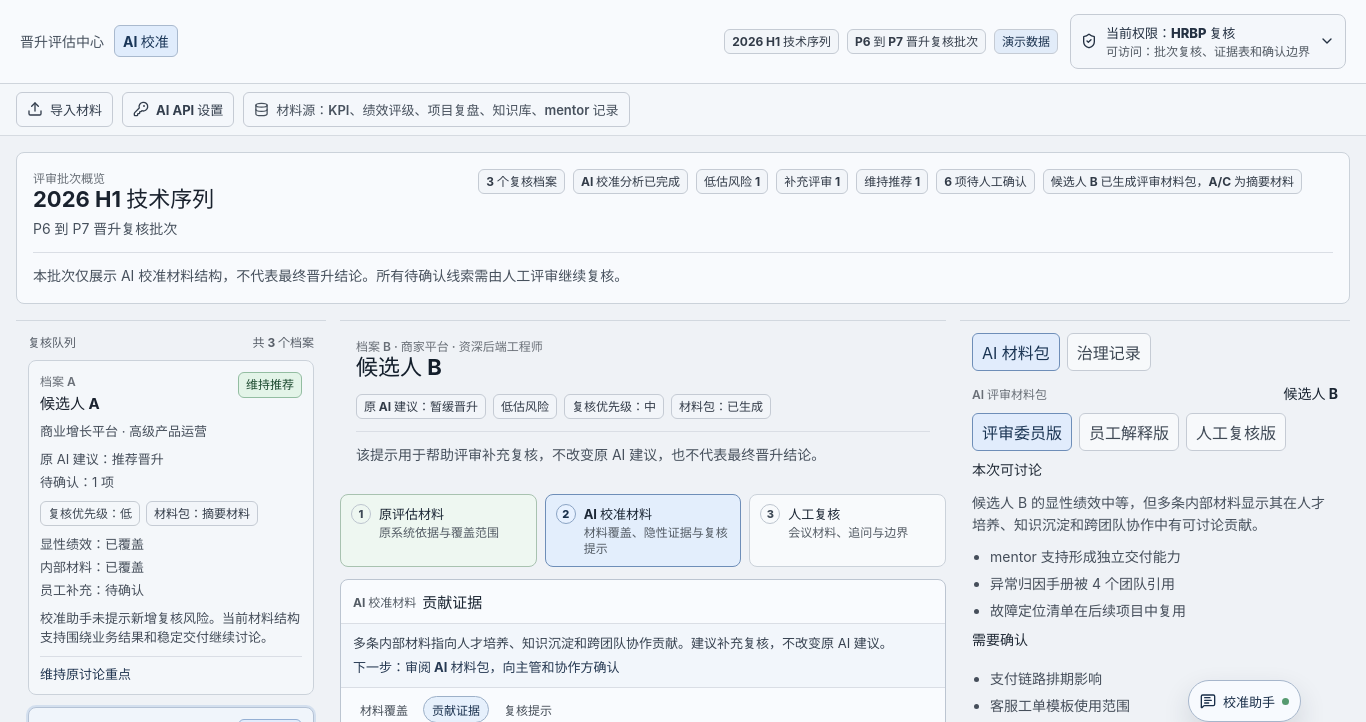
Test: promotion assessment center AI calibration module › switches to the committee briefing without exposing employee input or governance details
Click the button with aria-label "切换权限上下文". click: [1208, 41]
box: [1070,14,1346,69]
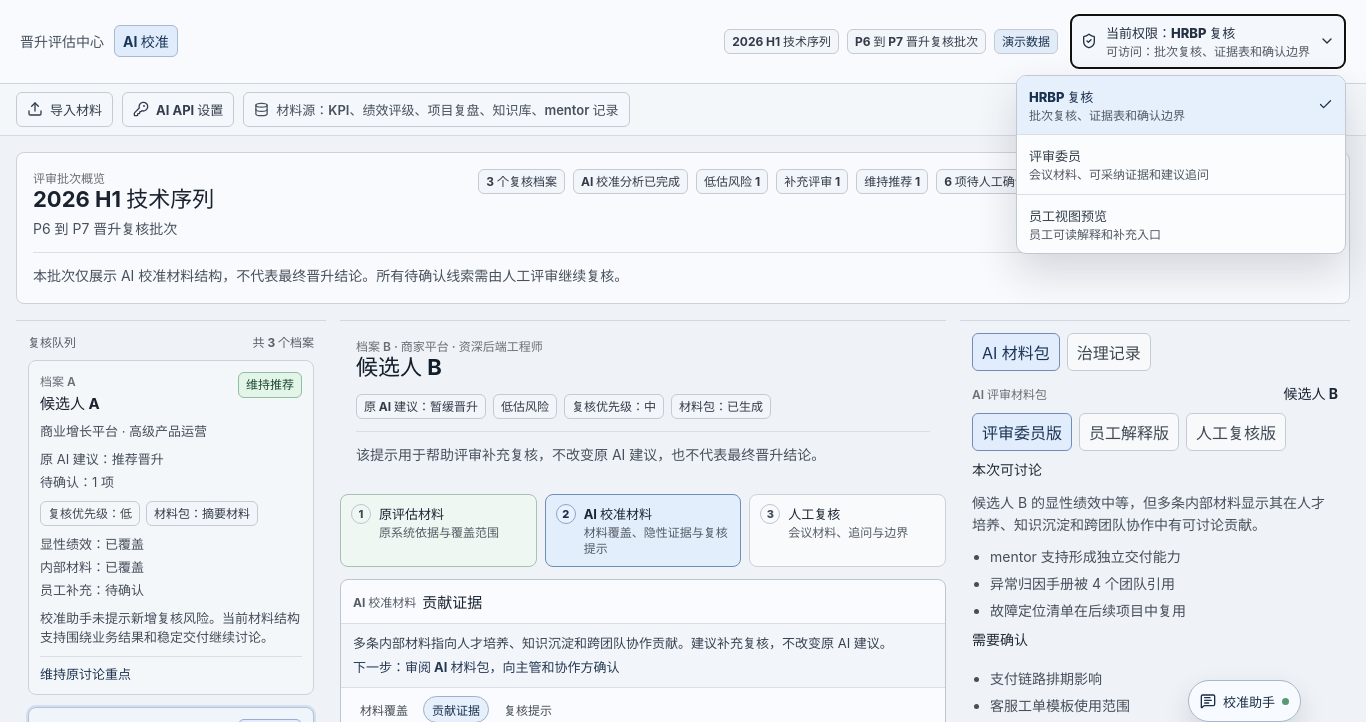
Click the button "评审委员 会议材料、可采纳证据和建议追问". click: [1181, 165]
box: [1017,135,1345,195]
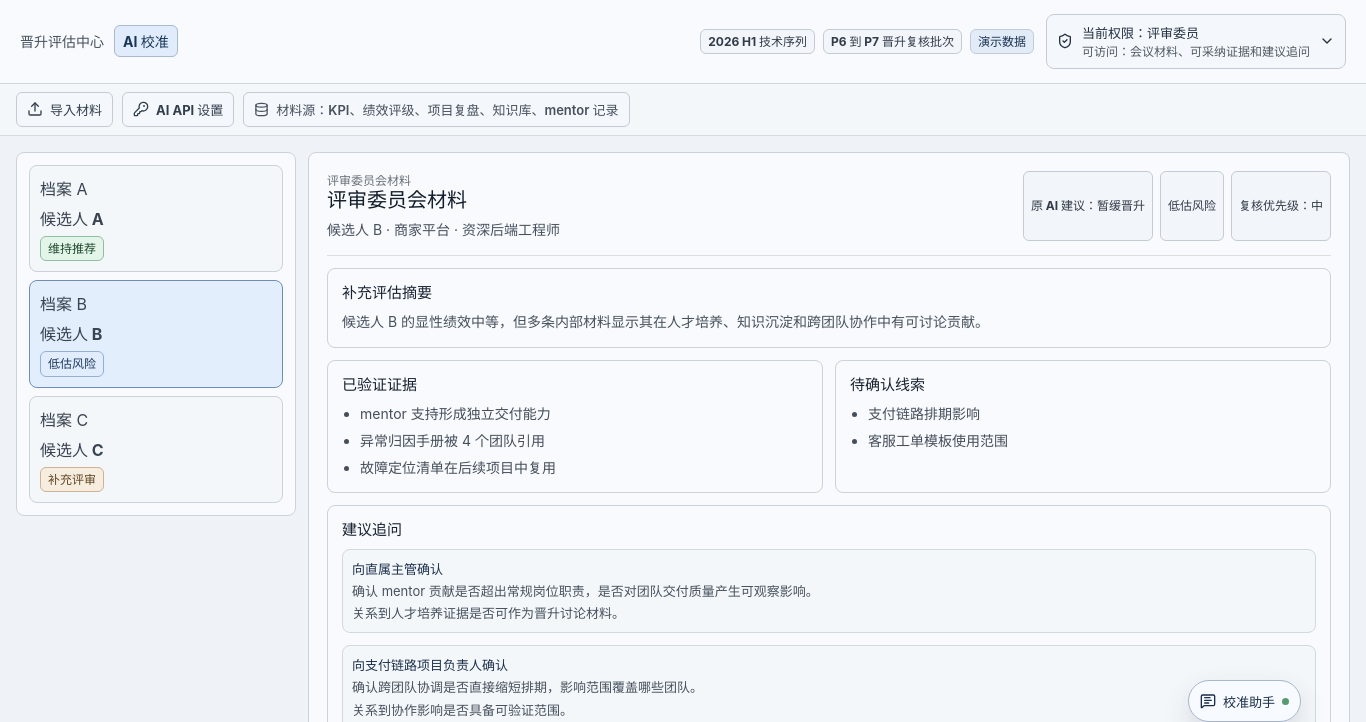
expect the heading "评审委员会材料" is shown: met, box [327,188,467,212]
expect the heading "补充评估摘要" is shown: met, box [342,283,432,302]
expect the heading "已验证证据" is shown: met, box [342,375,417,394]
